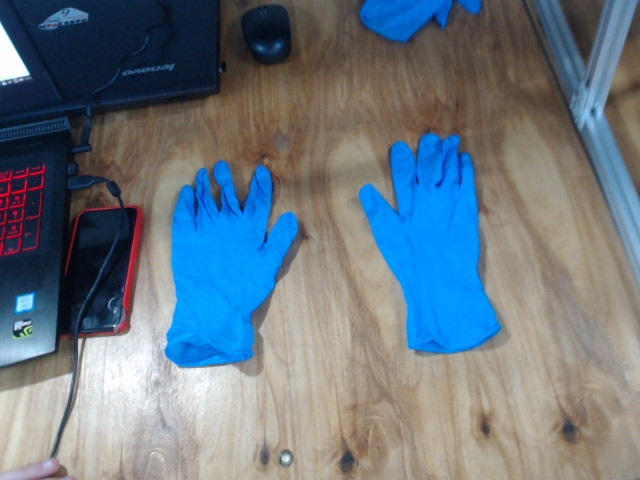medical_glove: (359, 132, 503, 352), (164, 160, 297, 363)
